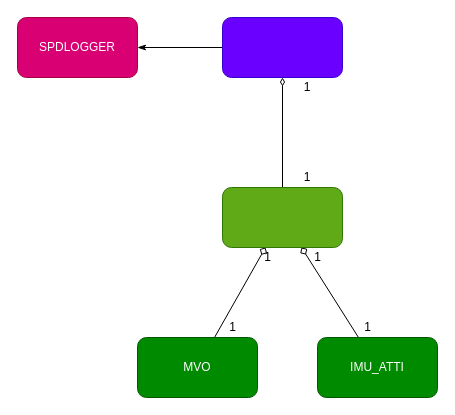
This 455x415 diagram has some shape labels left out. The shapes that lost their labels are listed below. From the top down, each one's centre as x and y in pixels, then its label:
At [282,47]: "TelloTelemetry".
At [282,217]: "TelloFlightData".
